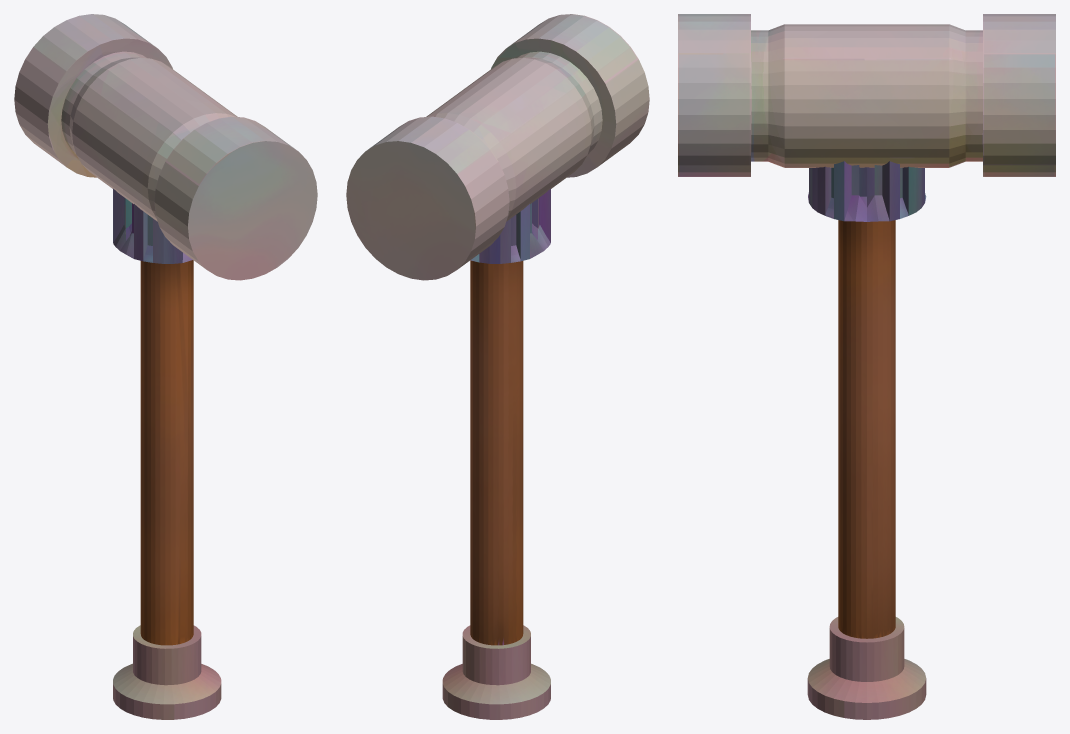
File: Hammer.fbx
3 renders of one model, left to right at view 1: azimuth 30°, elevation 25°; view 2: azimuth 150°, elevation 25°; view 3: azimuth 270°, elevation 25°, orthographic. The views are drawn at different scales.
Visible parts, largest first — view 1: 圓形, 圓柱體; view 2: 圓形, 圓柱體; view 3: 圓形, 圓柱體.
Part boxes in pixels (x1,y1,x2,y2): 圓形: [14, 14, 317, 280]; 圓柱體: [113, 188, 221, 719]; 圓形: [346, 14, 649, 280]; 圓柱體: [442, 188, 550, 719]; 圓形: [678, 14, 1055, 176]; 圓柱體: [807, 161, 926, 719].
Bounding box in the file's own units: 525 × 227 × 1032.
